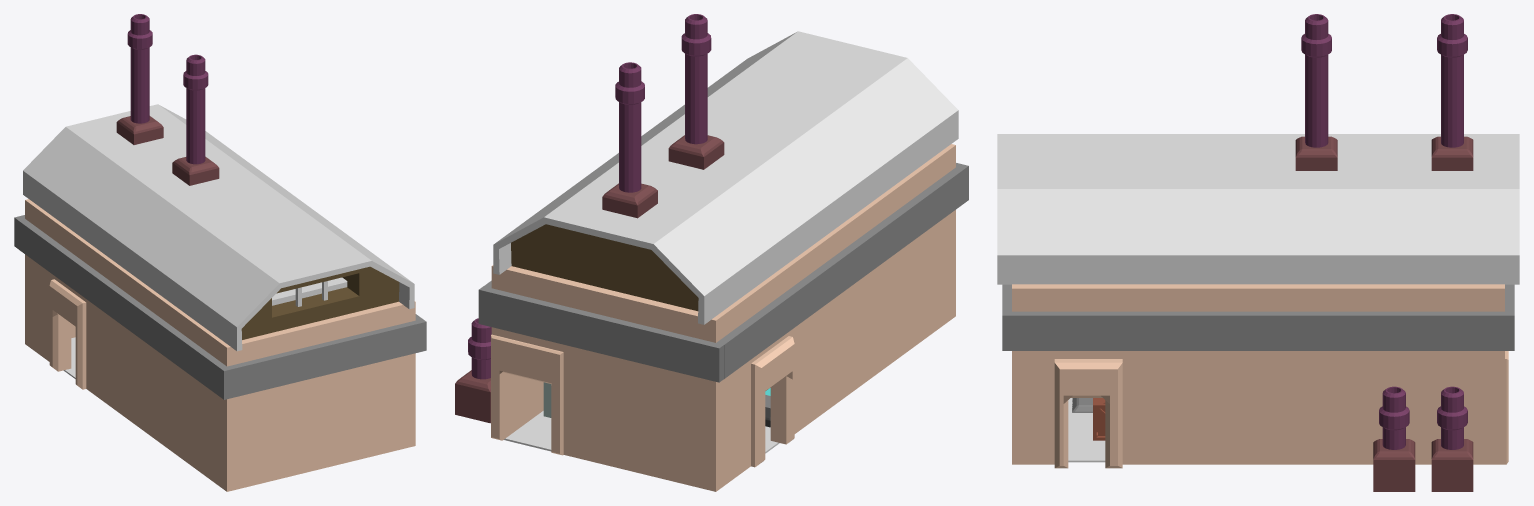
Rendered from Test_Centre_Area.fbx.
The picture shows the model from 3 angles, left to right: view 1: azimuth 30°, elevation 25°; view 2: azimuth 150°, elevation 25°; view 3: azimuth 270°, elevation 25°; orthographic projection. The views are drawn at different scales.
Parts seen in each view (by area): view 1: Building_Shell, RoofPlating, Roof_SidePanels, ExhaustTower, RoofPanels_Inner, Board2; view 2: Building_Shell, RoofPlating, Roof_SidePanels, ExhaustTower, RoofPanels_Inner, ExhaustTower.001, Floor; view 3: RoofPlating, Building_Shell, Roof_SidePanels, ExhaustTower, ExhaustTower.001, Floor.
Boxes of the visible parts, box(x1,y1,x2,y2) form: Building_Shell: box(25, 199, 415, 491); RoofPlating: box(23, 104, 414, 351); Roof_SidePanels: box(14, 215, 426, 399); ExhaustTower: box(116, 14, 219, 185); RoofPanels_Inner: box(241, 266, 399, 339); Board2: box(272, 277, 347, 305); Building_Shell: box(491, 144, 955, 491); RoofPlating: box(493, 31, 958, 324); Roof_SidePanels: box(478, 163, 968, 382); ExhaustTower: box(602, 14, 724, 218); RoofPanels_Inner: box(511, 224, 698, 311); ExhaustTower.001: box(455, 318, 491, 423); Floor: box(504, 411, 779, 453); RoofPlating: box(997, 134, 1519, 284); Building_Shell: box(1012, 284, 1508, 468); Roof_SidePanels: box(1002, 284, 1514, 350); ExhaustTower: box(1295, 14, 1473, 170); ExhaustTower.001: box(1373, 386, 1473, 491); Floor: box(1068, 398, 1105, 462).
Bounding box in the file's own units: 1738 × 2230 × 2691.
